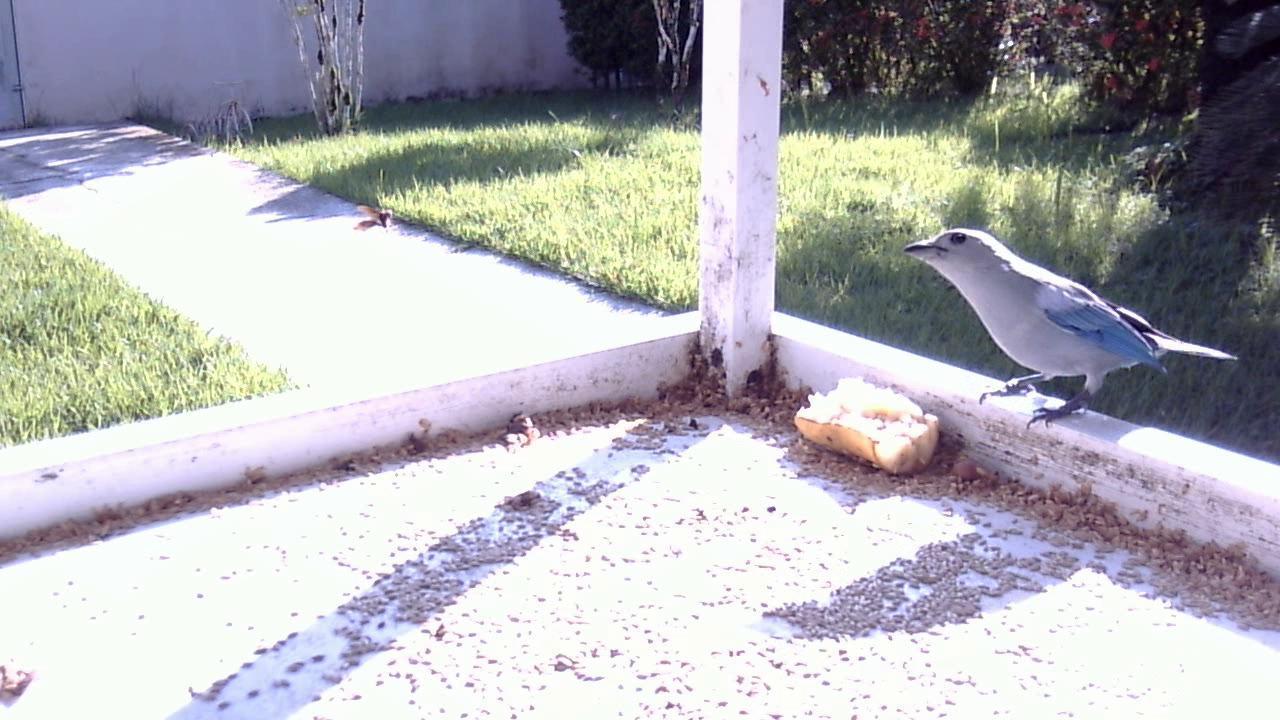sanhaco_da_amazonia: (900, 218, 1243, 444)
